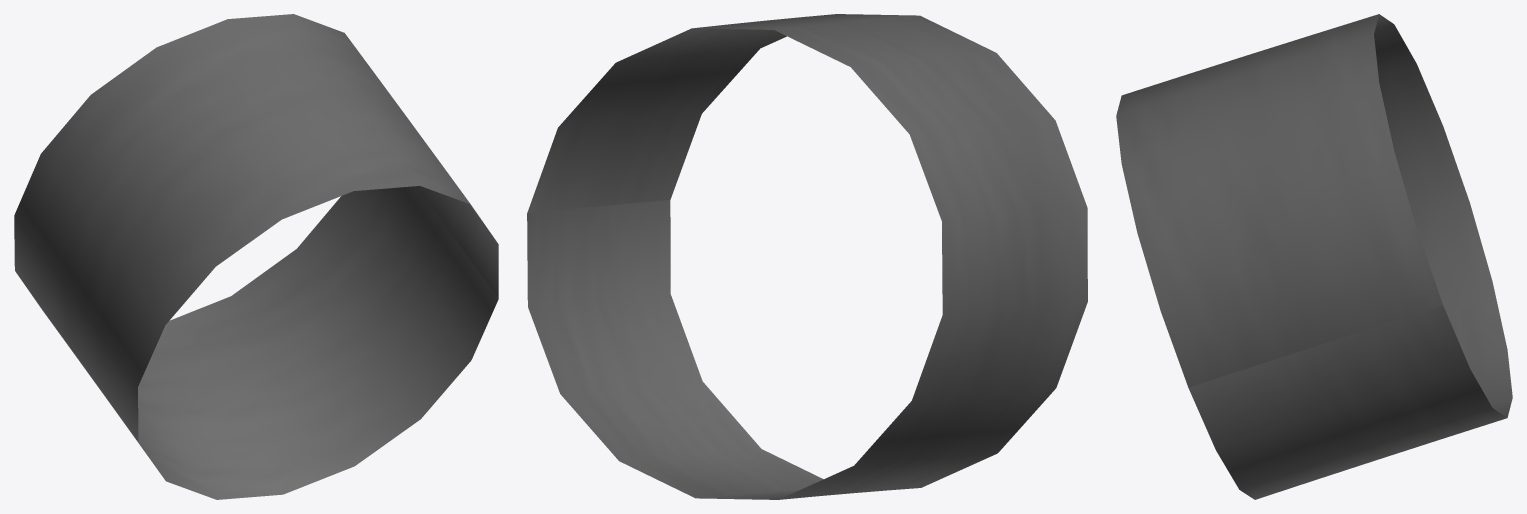
The model's file is mastarmcurve_10x2_c1.obj.
3 views of the same model, side by side, from view 1: azimuth 30°, elevation 25°; view 2: azimuth 150°, elevation 25°; view 3: azimuth 270°, elevation 25° (orthographic). The views are drawn at different scales.
Visible parts, largest first — view 1: mastarm_10x2_c1; view 2: mastarm_10x2_c1; view 3: mastarm_10x2_c1.
Boxes of the visible parts, x1,y1,x2,y2 form: mastarm_10x2_c1: (14, 14, 498, 499); mastarm_10x2_c1: (527, 14, 1087, 499); mastarm_10x2_c1: (1116, 14, 1512, 499).
Bounding box in the file's own units: 0.5675 × 0.6539 × 0.5283.
